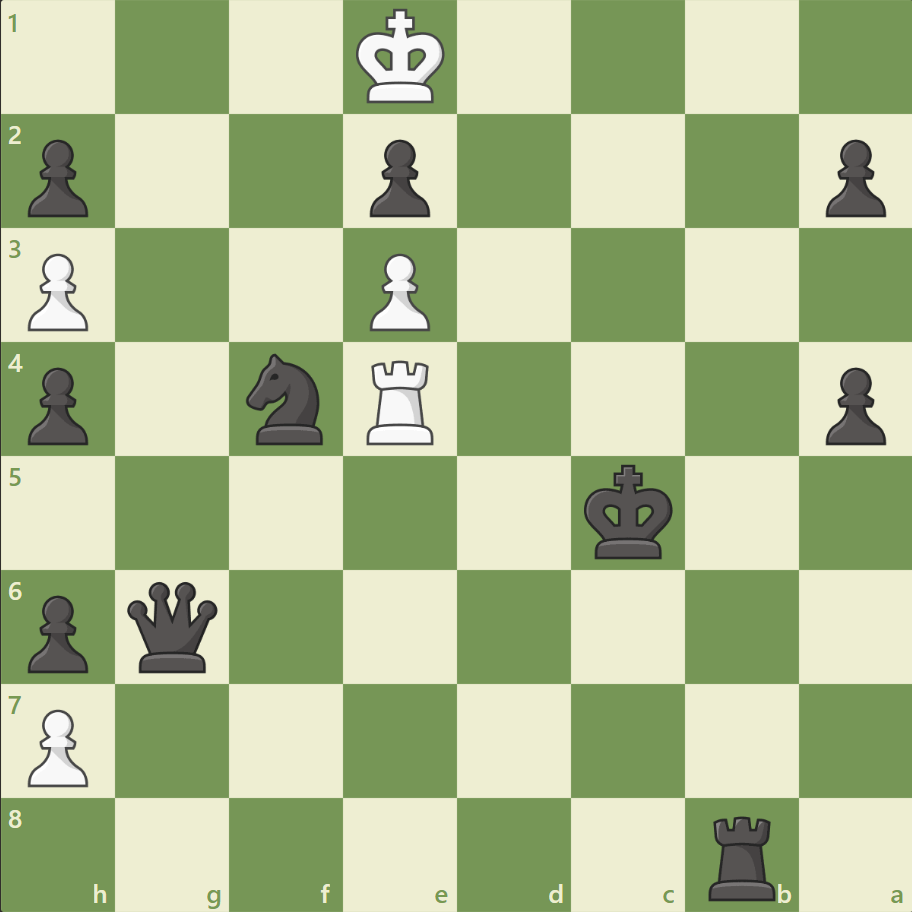K: (351, 4, 451, 112)
P: (20, 700, 95, 791), (20, 246, 95, 337), (361, 246, 435, 337)
R: (360, 352, 442, 449)
k: (579, 458, 679, 566)
n: (238, 348, 335, 450)
p: (20, 586, 95, 677), (20, 359, 95, 450), (20, 132, 95, 223), (815, 359, 889, 450), (815, 132, 889, 223), (361, 132, 435, 223)
q: (124, 576, 223, 676)
r: (700, 806, 783, 904)
